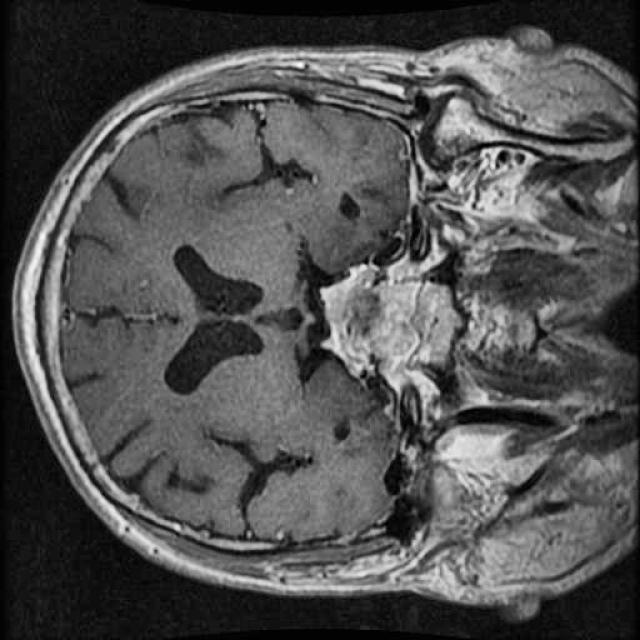Tumor: (309, 255, 394, 389)
